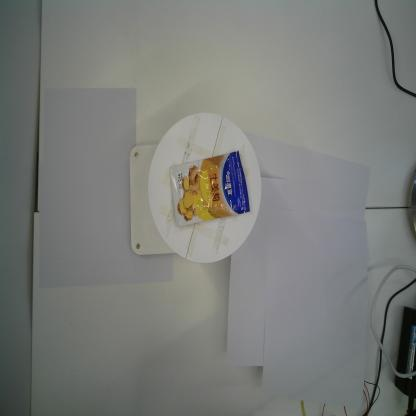Seasoner: (170, 150, 250, 227)
